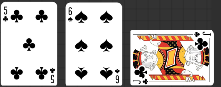4C: (48, 66, 56, 84)
JC: (192, 30, 211, 38), (132, 77, 149, 85)
